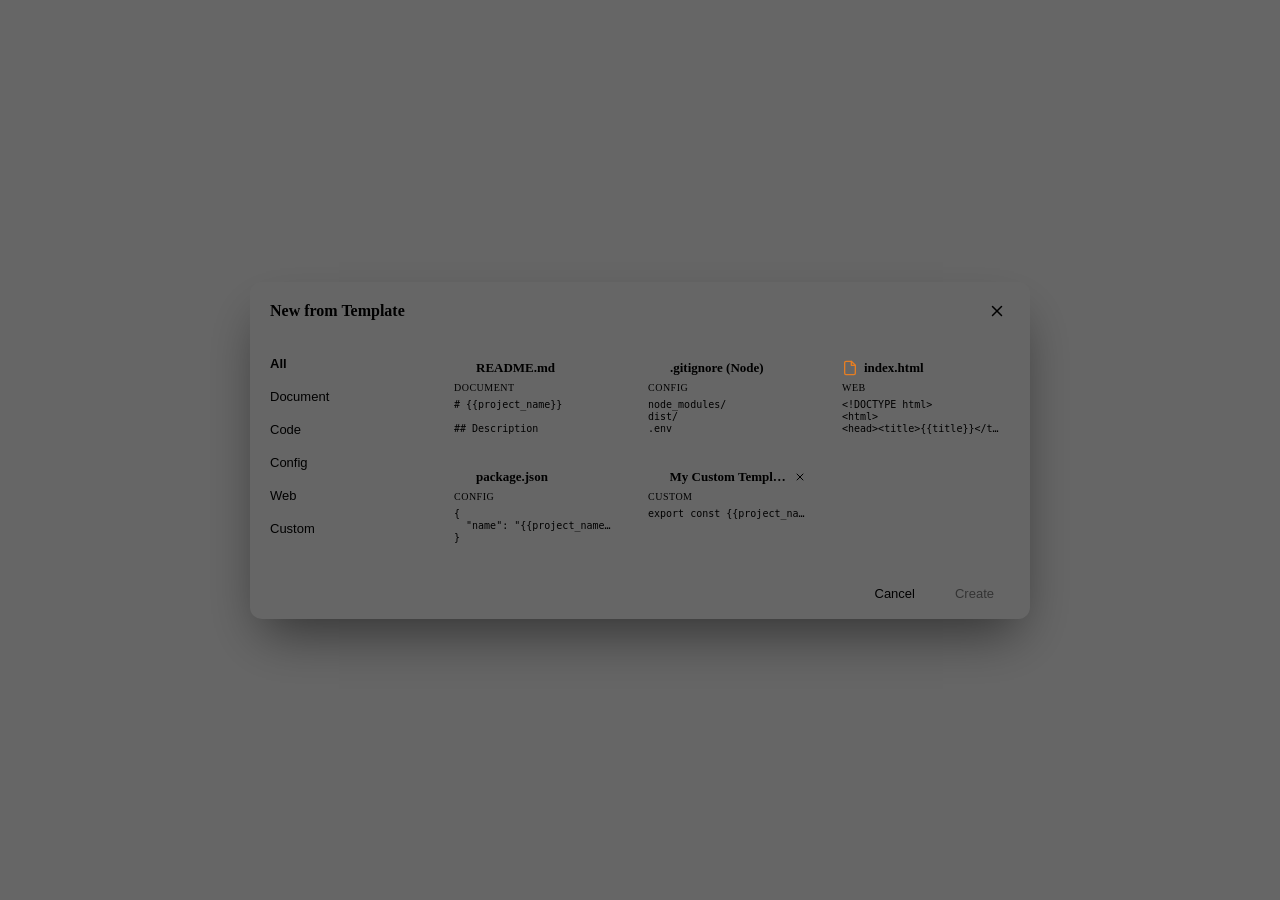
Test: TemplatePickerDialog › Category Sidebar › shows empty state for categories with no templates
The image size is (1280, 900).
Click the button "Code". click: x=338, y=429
box: [258, 414, 418, 444]
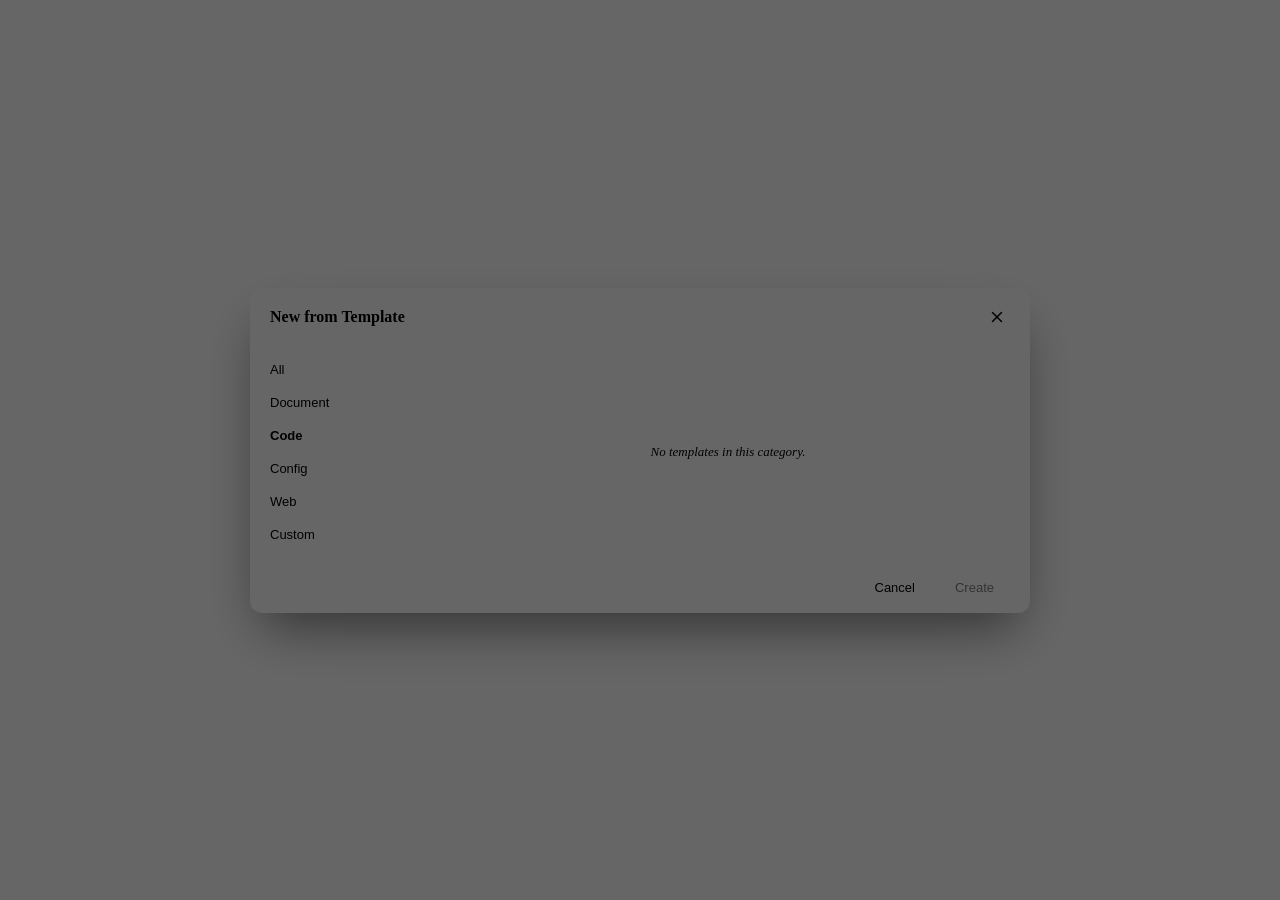
Now the text "No templates in this category." is shown, box [650, 444, 805, 458]
